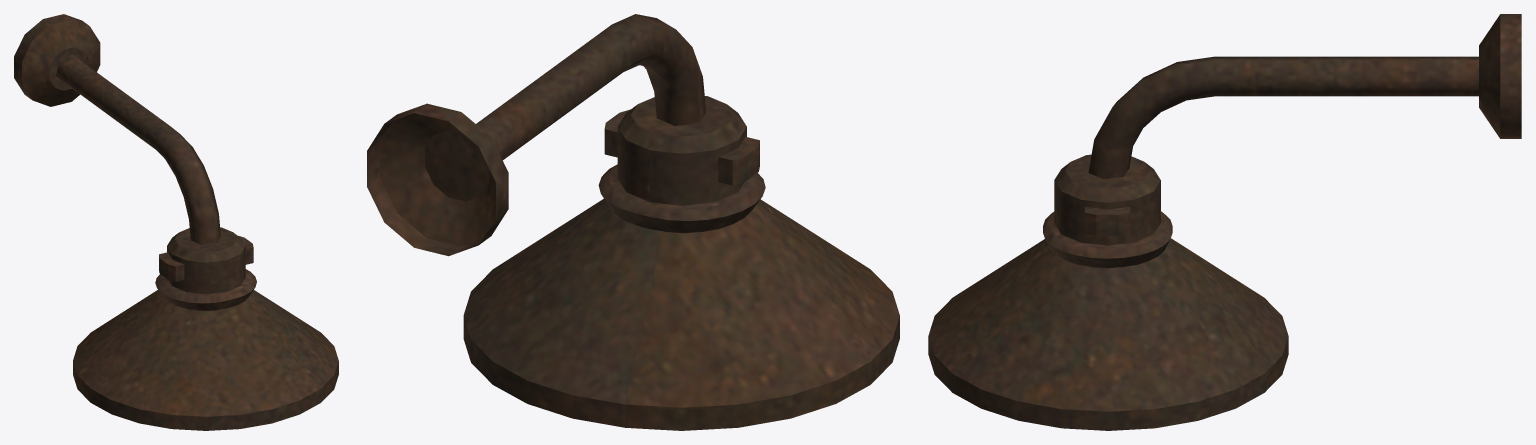
File: lamp_mx_4_on.obj
3 views of the same model, side by side, from view 1: azimuth 30°, elevation 25°; view 2: azimuth 150°, elevation 25°; view 3: azimuth 270°, elevation 25° (orthographic). The views are drawn at different scales.
Parts seen in each view (by area): view 1: lamp_mx_4_on; view 2: lamp_mx_4_on; view 3: lamp_mx_4_on.
Part boxes in pixels (x1,y1,x2,y2): lamp_mx_4_on: (14,14,338,430); lamp_mx_4_on: (367,14,899,430); lamp_mx_4_on: (928,14,1521,430).
Size of the model in its own units: 0.51 by 0.5559 by 0.84.
